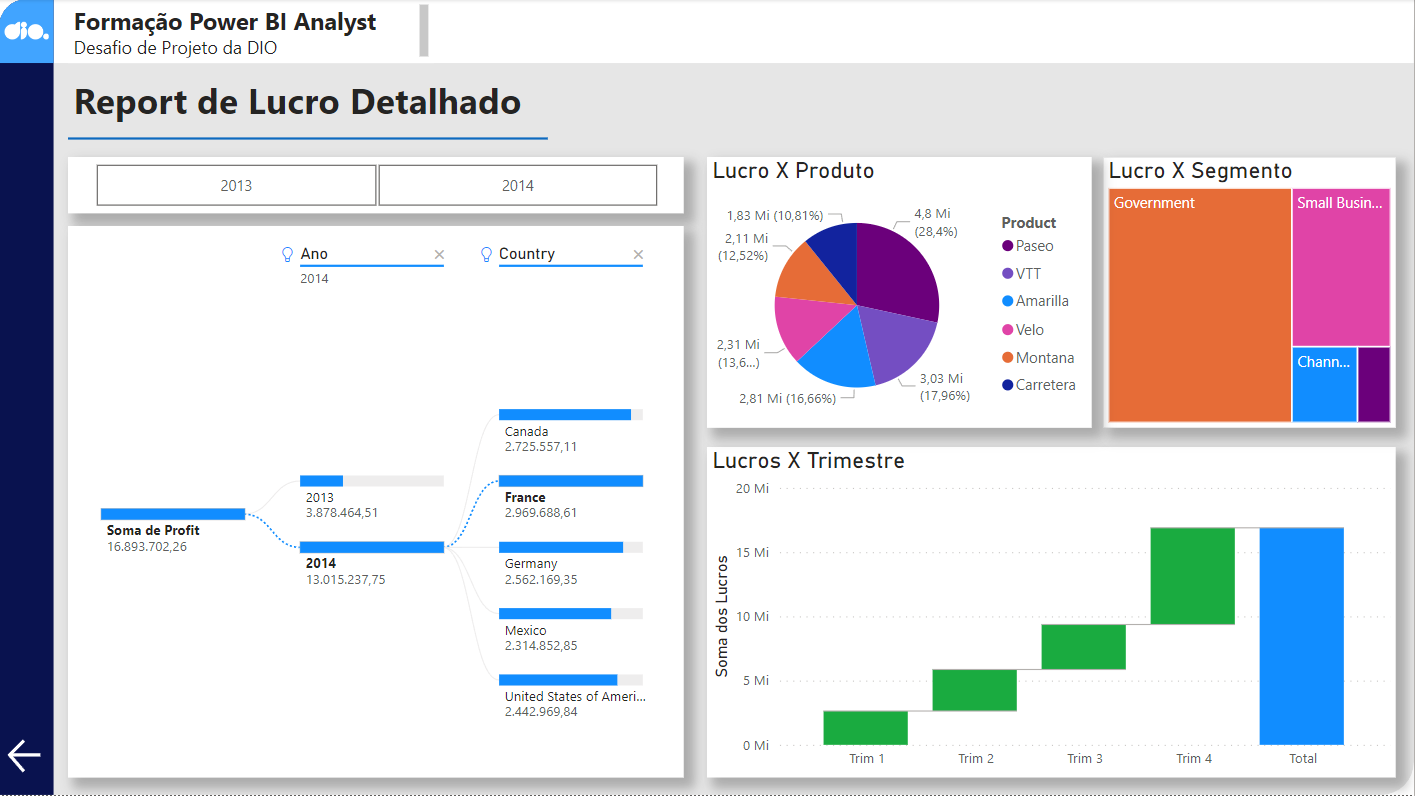

This screenshot's page, from the dashboard's own definition file:
{"tool":"powerbi","page":{"name":"Página 2","canvas":[1280,720],"ordinal":1},"visuals":[{"type":"shape","box":[0,0,1280,720.2],"z":0},{"type":"textbox","box":[62,64.1,435.1,63.3],"z":0,"group":"g1"},{"type":"shape","box":[0,0,49.6,720.2],"z":1000},{"type":"shape","box":[62,109.3,434.2,33.5],"z":1000,"group":"g1"},{"type":"shape","box":[0,0,49.6,58.3],"z":2000},{"type":"image","title":"logo dio","box":[0,3.9,49.6,49.6],"z":3000},{"type":"shape","box":[49.6,0,1230.4,58.3],"z":4000},{"type":"textbox","box":[62.2,0,331.4,58.3],"z":5000},{"type":"group","id":"g1","title":"Title Report","box":[62,64.1,435.1,78.7],"z":6000},{"type":"actionButton","box":[3.6,664.9,40.7,39.8],"z":7000},{"type":"slicer","fields":{"Values":["financials.Date.Variation.Hierarquia de datas.Ano"]},"box":[62.4,142.9,557.2,50.7],"z":8000},{"type":"decompositionTreeVisual","fields":{"ExplainBy":["financials.Date.Variation.Hierarquia de datas.Ano","financials.Country"],"Analyze":["Sum(financials.Profit)"]},"box":[62.4,205.3,557.2,499.3],"z":9000},{"type":"waterfallChart","title":"Lucros X Trimestre","fields":{"Category":["financials.Date.Variation.Hierarquia de datas.Trimestre"],"Y":["Sum(financials.Profit)"]},"box":[640.5,405.3,623.3,299.4],"z":10000},{"type":"treemap","title":"Lucro X Segmento","fields":{"Group":["financials.Segment"],"Values":["Sum(financials.Profit)"]},"box":[998.7,142.9,265,245.1],"z":11000},{"type":"pieChart","title":"Lucro X Produto","fields":{"Y":["Sum(financials.Profit)"],"Category":["financials.Product"]},"box":[640.5,142.9,348.3,245.1],"z":12000}]}

Visuals, with their boxes on the page's 1280x720 design canvas (x1, y1, x2, y2). These are canvas units, not pixel positions in the 1415x796 screenshot, which may show the page scaled, cropped or inside an application window:
shape: (x1=0, y1=0, x2=1280, y2=720)
textbox: (x1=62, y1=64, x2=497, y2=127)
shape: (x1=0, y1=0, x2=50, y2=720)
shape: (x1=62, y1=109, x2=496, y2=143)
shape: (x1=0, y1=0, x2=50, y2=58)
"logo dio" image: (x1=0, y1=4, x2=50, y2=54)
shape: (x1=50, y1=0, x2=1280, y2=58)
textbox: (x1=62, y1=0, x2=394, y2=58)
"Title Report" group: (x1=62, y1=64, x2=497, y2=143)
actionButton: (x1=4, y1=665, x2=44, y2=705)
slicer - financials.Date.Variation.Hierarquia de datas.Ano: (x1=62, y1=143, x2=620, y2=194)
decompositionTreeVisual - financials.Date.Variation.Hierarquia de datas.Ano x financials.Country: (x1=62, y1=205, x2=620, y2=705)
"Lucros X Trimestre" waterfallChart: (x1=640, y1=405, x2=1264, y2=705)
"Lucro X Segmento" treemap: (x1=999, y1=143, x2=1264, y2=388)
"Lucro X Produto" pieChart: (x1=640, y1=143, x2=989, y2=388)
